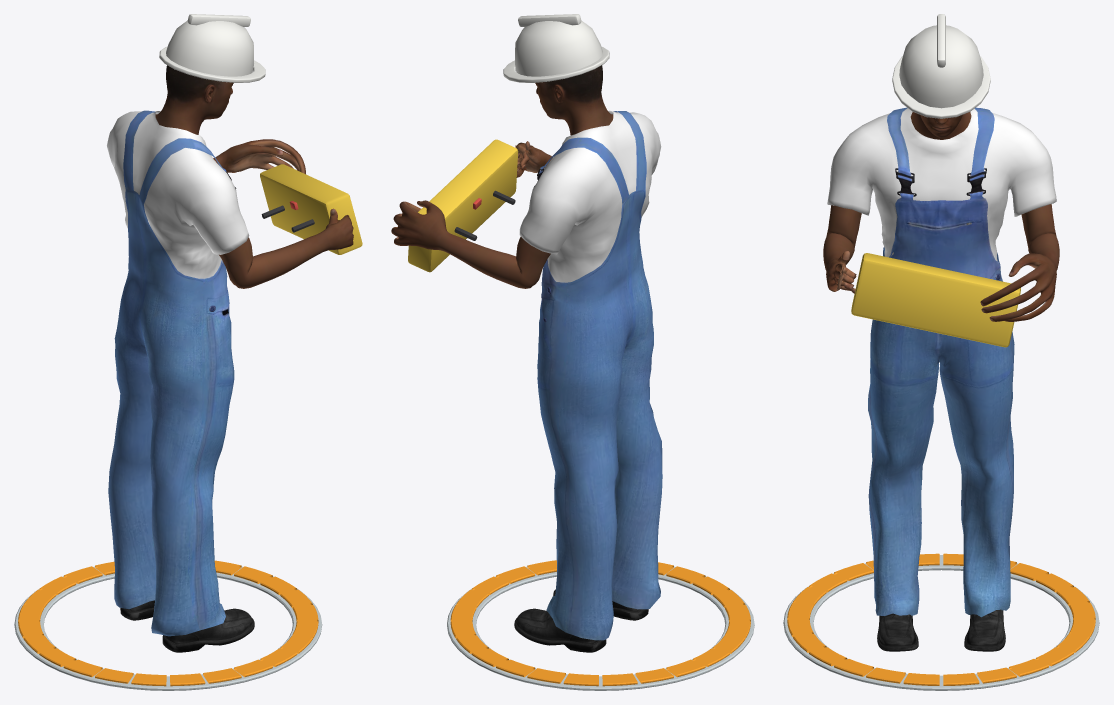
File: MDO-EQP-001.glb
3 views of the same model, side by side, from view 1: azimuth 30°, elevation 25°; view 2: azimuth 150°, elevation 25°; view 3: azimuth 270°, elevation 25° (orthographic). The views are drawn at different scales.
Visible parts, largest first — view 1: MDO-EQP-001_pessoa_male_worksuit01, MDO-EQP-001_pessoa, MDO-EQP-001_ferD_controle, MDO-EQP-001_capacete, MDO-EQP-001_anel_fundo, MDO-EQP-001_pessoa_shoes04, MDO-EQP-001_capacete_aba, MDO-EQP-001_capacete_friso; view 2: MDO-EQP-001_pessoa_male_worksuit01, MDO-EQP-001_pessoa, MDO-EQP-001_ferD_controle, MDO-EQP-001_capacete, MDO-EQP-001_anel_fundo, MDO-EQP-001_pessoa_shoes04, MDO-EQP-001_capacete_aba, MDO-EQP-001_capacete_friso; view 3: MDO-EQP-001_pessoa_male_worksuit01, MDO-EQP-001_ferD_controle, MDO-EQP-001_pessoa, MDO-EQP-001_capacete, MDO-EQP-001_anel_fundo, MDO-EQP-001_pessoa_shoes04, MDO-EQP-001_capacete_aba.
Part boxes in pixels (x1,y1,x2,y2): MDO-EQP-001_pessoa_male_worksuit01: [107, 110, 249, 636]; MDO-EQP-001_pessoa: [155, 65, 353, 288]; MDO-EQP-001_ferD_controle: [260, 164, 362, 254]; MDO-EQP-001_capacete: [166, 20, 253, 76]; MDO-EQP-001_anel_fundo: [14, 566, 322, 690]; MDO-EQP-001_pessoa_shoes04: [120, 600, 254, 652]; MDO-EQP-001_capacete_aba: [159, 46, 265, 82]; MDO-EQP-001_capacete_friso: [187, 14, 250, 26]; MDO-EQP-001_pessoa_male_worksuit01: [519, 110, 662, 640]; MDO-EQP-001_pessoa: [391, 65, 613, 288]; MDO-EQP-001_ferD_controle: [408, 139, 518, 272]; MDO-EQP-001_capacete: [515, 20, 602, 76]; MDO-EQP-001_anel_fundo: [447, 566, 754, 690]; MDO-EQP-001_pessoa_shoes04: [514, 589, 648, 652]; MDO-EQP-001_capacete_aba: [503, 47, 609, 82]; MDO-EQP-001_capacete_friso: [518, 14, 581, 26]; MDO-EQP-001_pessoa_male_worksuit01: [827, 107, 1056, 617]; MDO-EQP-001_ferD_controle: [851, 253, 1020, 347]; MDO-EQP-001_pessoa: [823, 112, 1059, 321]; MDO-EQP-001_capacete: [899, 25, 983, 108]; MDO-EQP-001_anel_fundo: [783, 555, 1099, 690]; MDO-EQP-001_pessoa_shoes04: [877, 609, 1005, 651]; MDO-EQP-001_capacete_aba: [892, 56, 990, 118].
Bounding box in the file's own units: 0.9507 × 1.83 × 0.84.
11 materials, 5 textured.
